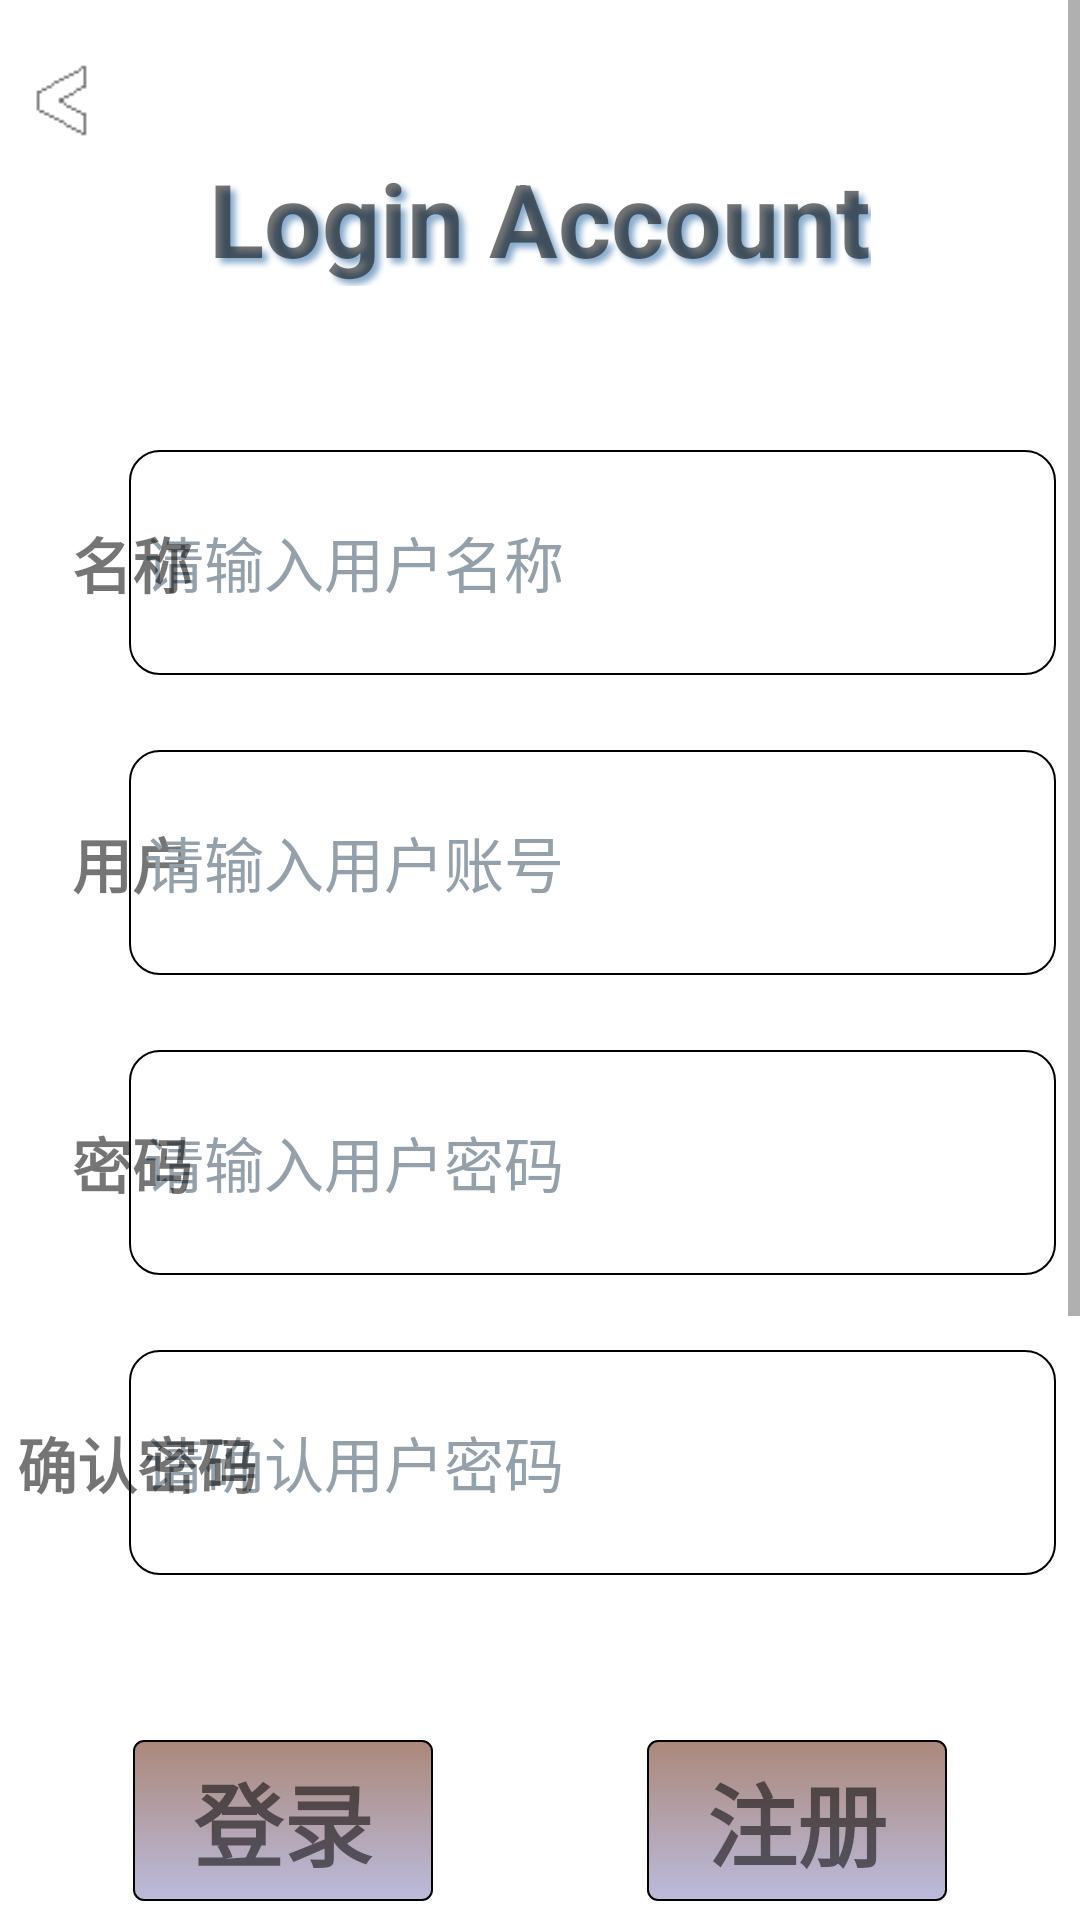

Where icons sit on this 1080px x 1920px app screen, as {"x1": x1, "y1": y1, "x2": x2, "y2": y2}:
back: {"x1": 36, "y1": 65, "x2": 87, "y2": 136}
